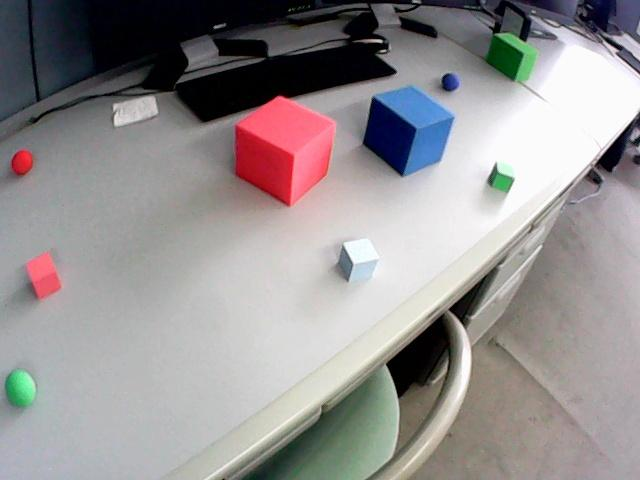blue_block: (364, 86, 454, 175), (339, 239, 378, 281)
red_block: (236, 97, 335, 205), (26, 252, 61, 298)
